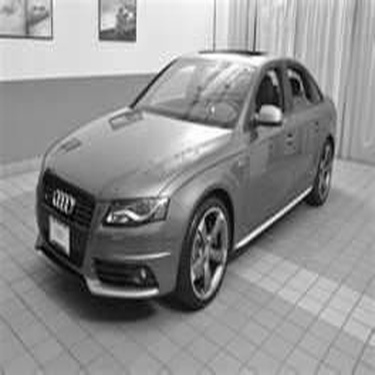car: (22, 40, 341, 319)
